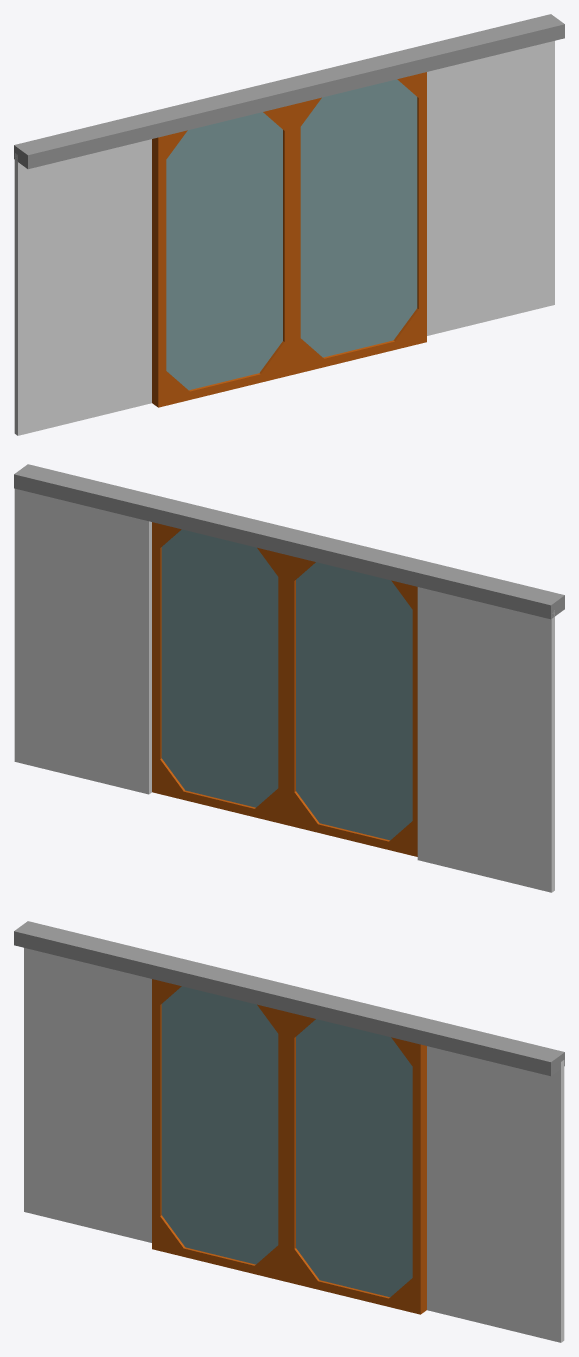
The model's file is Doors1.fbx.
3 views of the same model, one above another, from view 1: azimuth 30°, elevation 25°; view 2: azimuth 150°, elevation 25°; view 3: azimuth 330°, elevation 25° (orthographic).
Visible parts, largest first — view 1: pCube338, polySurface159, polySurface163; view 2: pCube338, polySurface163, polySurface159; view 3: pCube338, polySurface163, polySurface159.
Boxes of the visible parts, x1,y1,x2,y2 form: pCube338: (14, 14, 564, 435); polySurface159: (152, 105, 292, 407); polySurface163: (292, 72, 426, 374); pCube338: (14, 464, 564, 892); polySurface163: (152, 522, 286, 824); polySurface159: (286, 555, 417, 856); pCube338: (14, 921, 564, 1342); polySurface163: (286, 1012, 426, 1314); polySurface159: (152, 979, 286, 1281).
Bounding box in the file's own units: 400 × 18 × 205.
